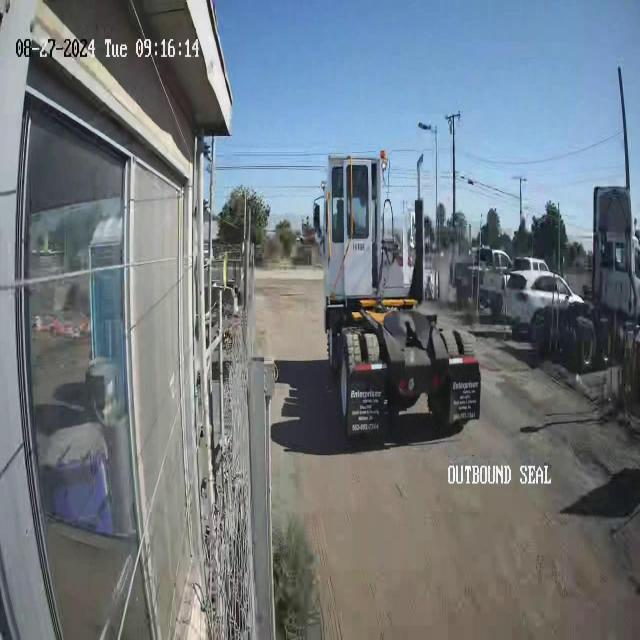TRUCK_OUT: (313, 138, 491, 442)
